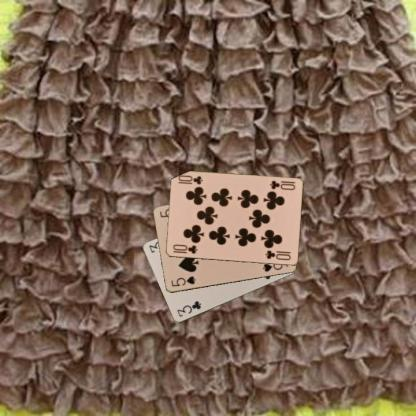10c: (267, 178, 296, 191), (171, 242, 198, 255)
3c: (175, 298, 202, 318)
5s: (169, 274, 196, 288)
